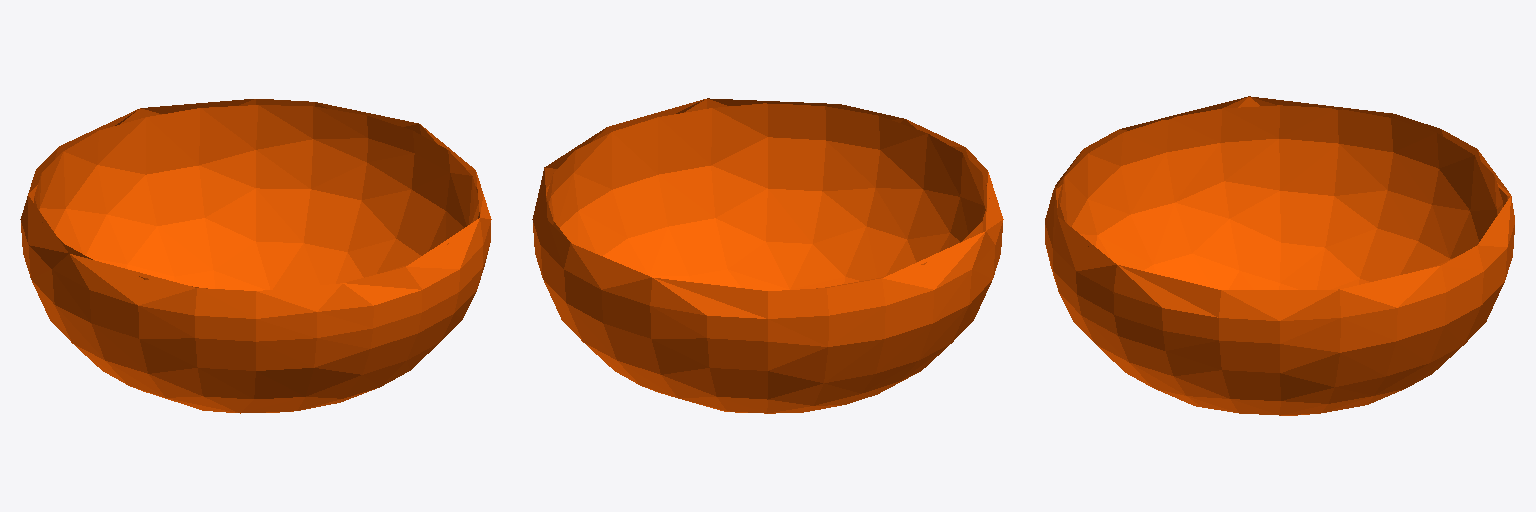
The robot description file, URDF, robot "Bowl_2efc35a3625fa50961a9876fa6384765":
<?xml version="1.0" ?>
<robot name="Bowl_2efc35a3625fa50961a9876fa6384765">
   <material name="obj_color">
      <color rgba="1.0 0.423529411765 0.0392156862745 1.0"/>
   </material>
   <link name="top">
      <inertial>
         <origin rpy="0.0003979676192039389 0.0003979694914677083 0.0006504204917131525" xyz="-4.705420698013433e-05 6.65962480316371e-05 0.003578282345568517"/>
         <mass value="0.4280627702945905"/>
         <inertia ixx="0.0003979694911570416" ixy="-2.415478505586546e-11" ixz="5.079628363522452e-10" iyy="0.0003979676195156974" iyz="1.3248849217294e-10" izz="0.0006504204917120608"/>
      </inertial>
      <visual>
         <origin rpy="0 0 0" xyz="0 0 0"/>
         <geometry>
            <mesh filename="top_watertight_tiny.stl" scale="1 1 1"/>
         </geometry>
         <material name="obj_color"/>
      </visual>
      <collision>
         <origin rpy="0 0 0" xyz="0 0 0"/>
         <geometry>
            <mesh filename="top_watertight_tiny.obj" scale="1 1 1"/>
         </geometry>
      </collision>
   </link>
   <link name="bottom">
      <inertial>
         <origin rpy="1.633333333331402e-08 1.633333333331402e-08 1.633333333331402e-08" xyz="0.08660200000000004 0.08660200000000004 0.08660200000000004"/>
         <mass value="0.0009800000000000026"/>
         <inertia ixx="1.633333333331402e-08" ixy="-0" ixz="-0" iyy="1.633333333331402e-08" iyz="-0" izz="1.633333333331402e-08"/>
      </inertial>
      <visual>
         <origin rpy="0 0 0" xyz="0 0 0"/>
         <geometry>
            <mesh filename="bottom_watertight_tiny.stl" scale="1 1 1"/>
         </geometry>
         <material name="obj_color"/>
      </visual>
   </link>
   <joint name="rotation" type="revolute">
      <origin xyz="0 0 0"/>
      <axis xyz="0 0 -1"/>
      <parent link="bottom"/>
      <child link="top"/>
      <dynamics damping="1.0" friction="1.0"/>
      <limit effort="0.1" velocity="0.1" lower="0" upper="0.001"/>
   </joint>
</robot>

--- What the picture shows (computed from the rendered views, not written in the file) ---
The picture shows the robot from 3 angles, left to right: view 1: azimuth 30°, elevation 25°; view 2: azimuth 150°, elevation 25°; view 3: azimuth 270°, elevation 25°; orthographic projection.
Robot: Bowl_2efc35a3625fa50961a9876fa6384765 — 2 links, 1 joints (1 revolute); root link bottom; default pose: every joint at zero.
Links seen in each view (by area): view 1: top; view 2: top; view 3: top.
Link boxes in pixels (box(x1,y1,x2,y2)): top: box(20, 99, 491, 413); top: box(532, 98, 1003, 413); top: box(1045, 96, 1514, 415).
Size in the robot's own frame: 0.1202 by 0.1202 by 0.0519 metres.
1 mesh visuals loaded from 2 distinct referenced files (1 binary STL); not drawn: 1 (reference not matched to a file when rendering).